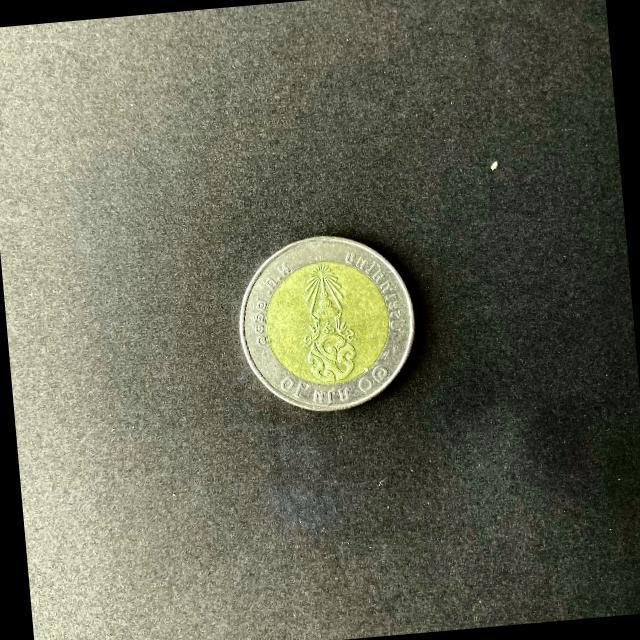10 Bath: (235, 232, 419, 419)
